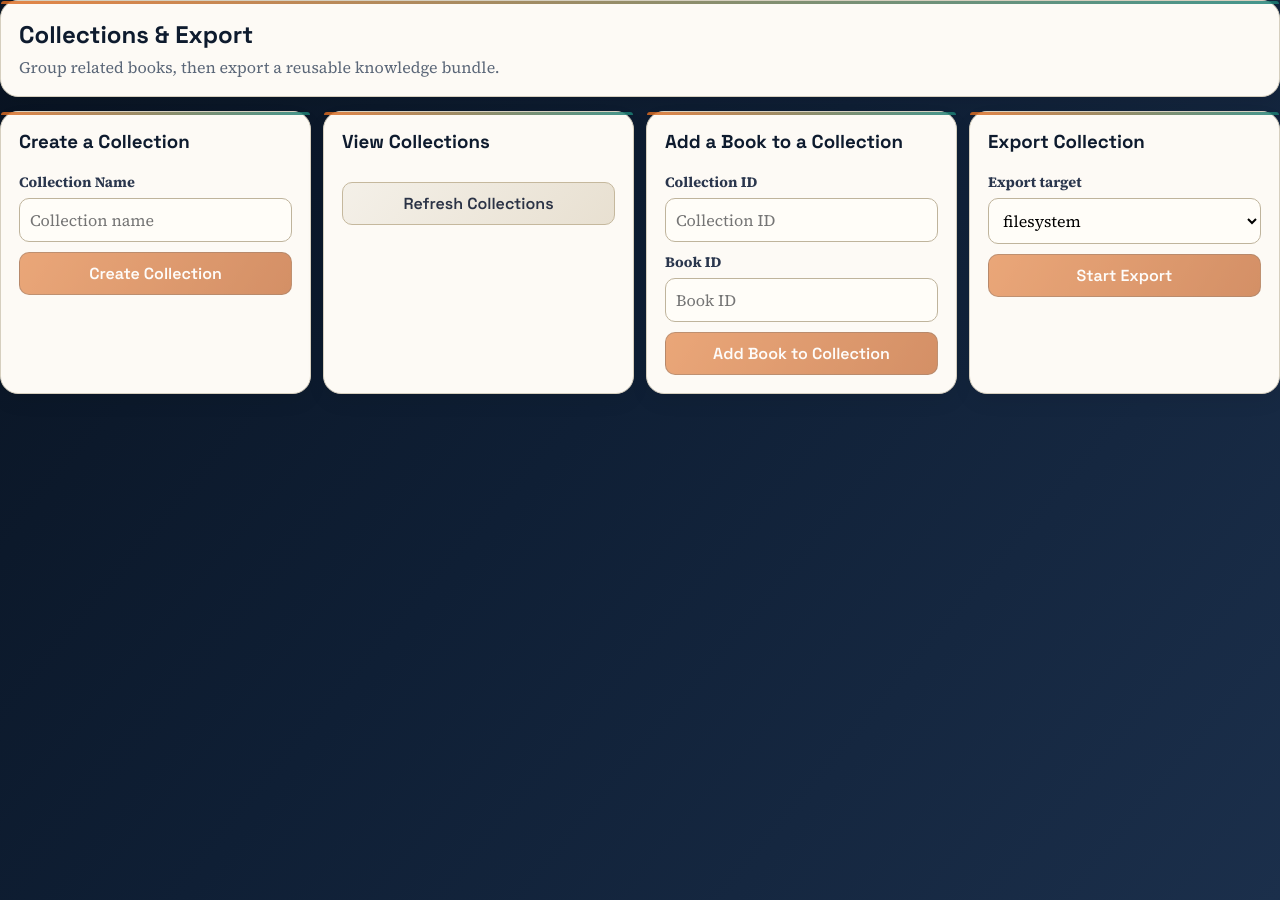
Test: collections export UI › shows enhanced toggle only when obsidian target is selected
Expected: the text "Enhanced Obsidian format (frontmatter + tags + media handling)" is not shown
Select "obsidian" in the dropdown at (1124, 221), box [988,198,1261,244]
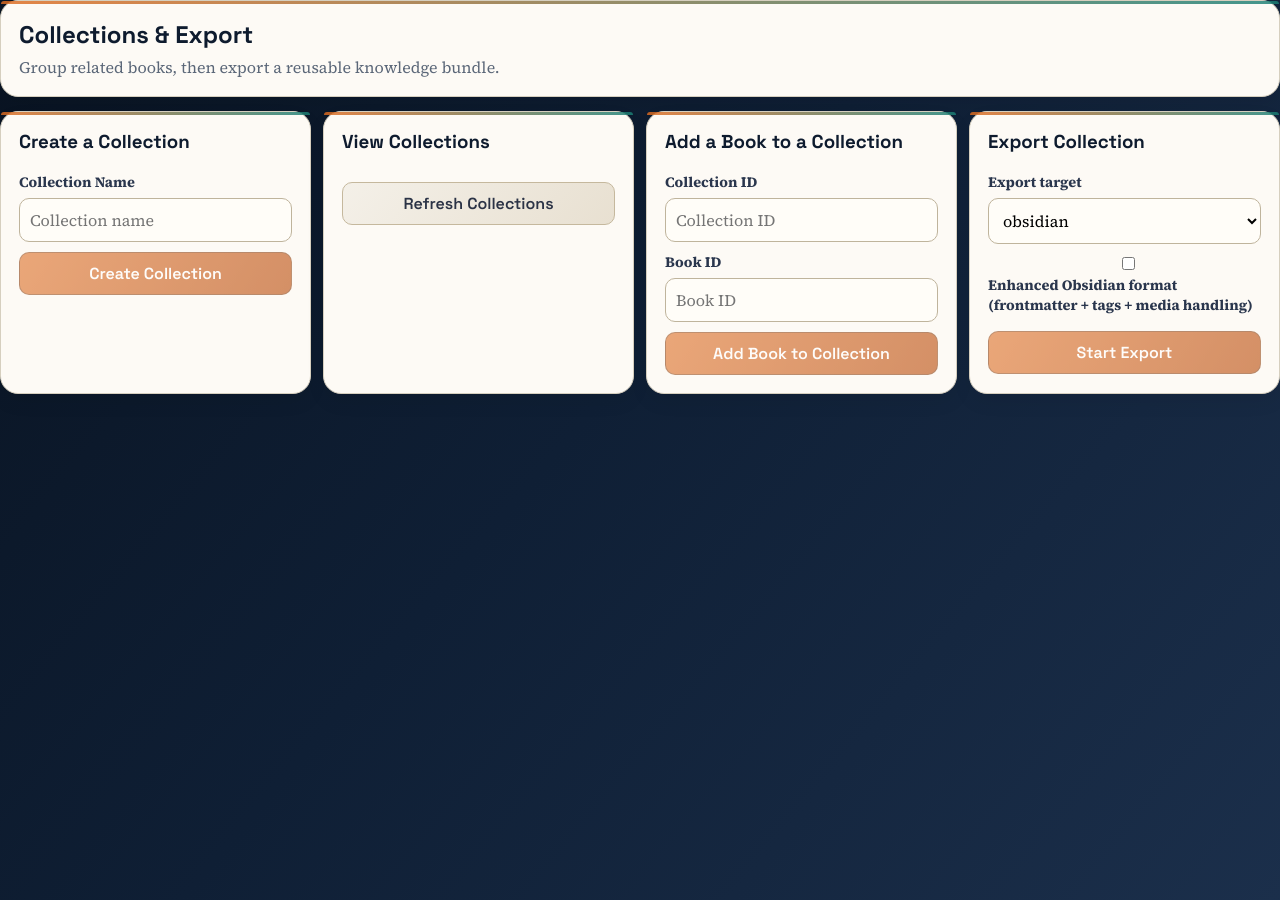
Result: the text "Enhanced Obsidian format (frontmatter + tags + media handling)" is shown at [988,254,1261,315]
